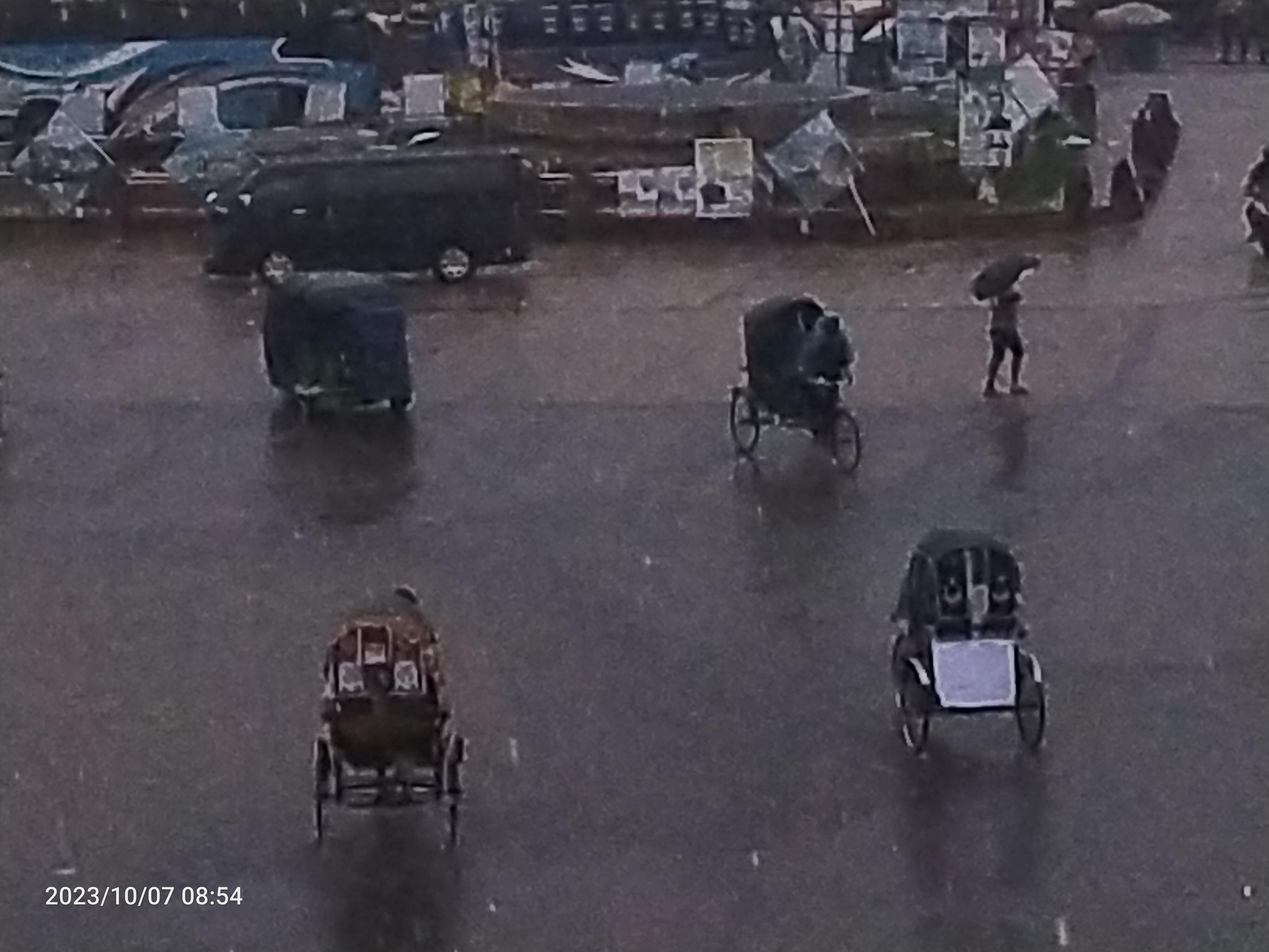Bike: (1224, 122, 1269, 279)
Bus: (0, 0, 455, 155), (471, 0, 829, 127)
Car: (269, 536, 490, 884), (143, 121, 574, 297), (858, 493, 1077, 772), (698, 261, 891, 497)
